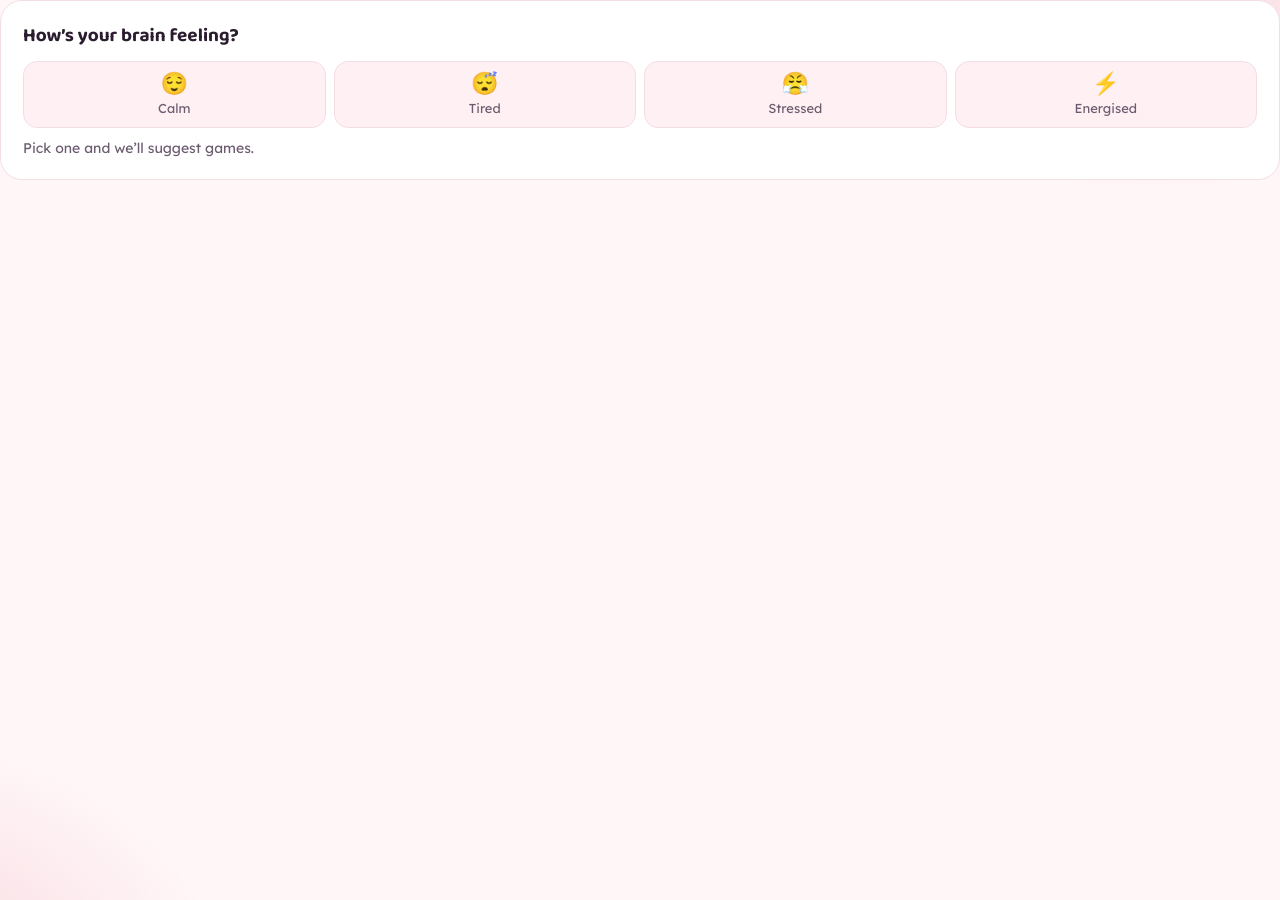
Scenario: MoodCheck › suggests the copy.json games and message for Calm
What coordinates should you click on to do the following:
click the button "😌 Calm"
I would click on:
 (174, 94)
Its box is [23, 61, 326, 128].
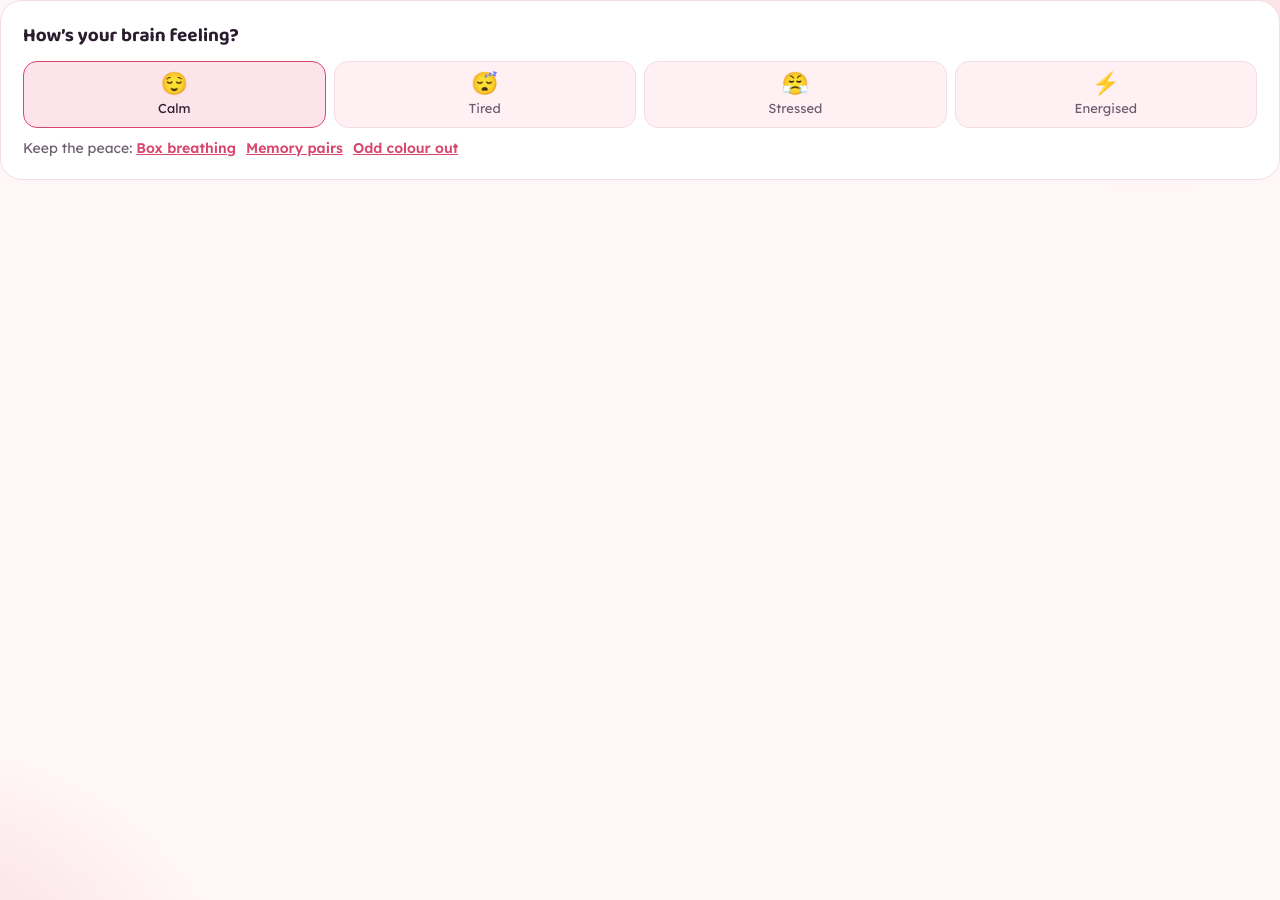
Result: the links read "Box breathing", "Memory pairs", "Odd colour out", in this order at [136, 138, 236, 156]; [246, 138, 343, 156]; [353, 138, 458, 156]
Result: the text "Pick one" is gone
Result: the text "Keep the peace:" is shown at [23, 138, 136, 156]
